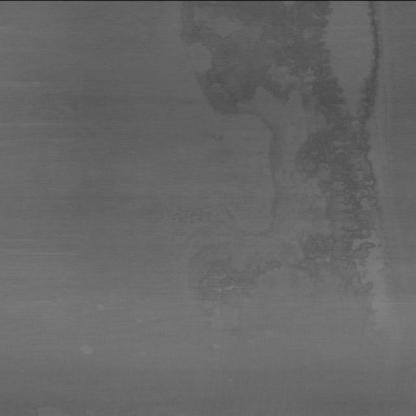water_spot: (237, 0, 399, 284), (171, 4, 256, 111)
